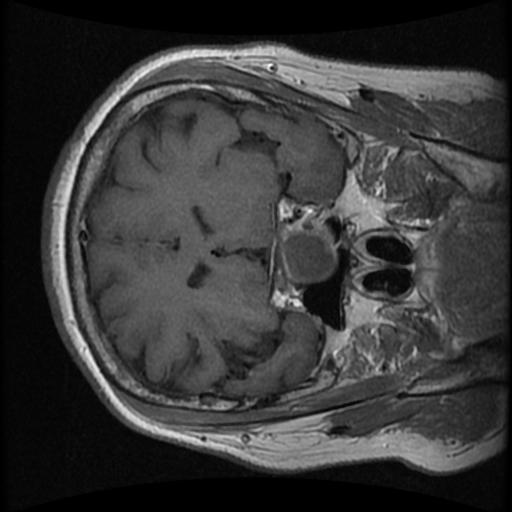pituitary tumour: (278, 219, 339, 284)
